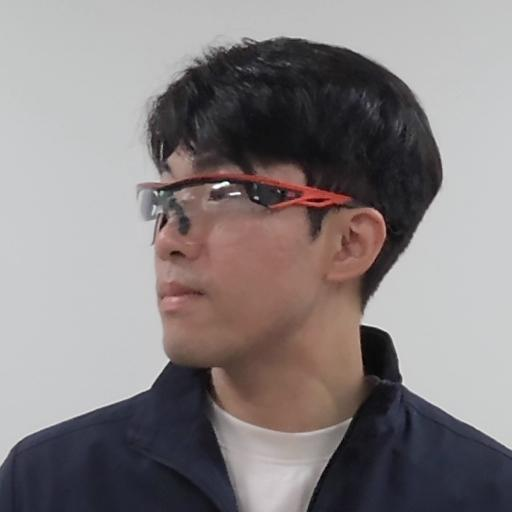glasses: (131, 42, 452, 386)
